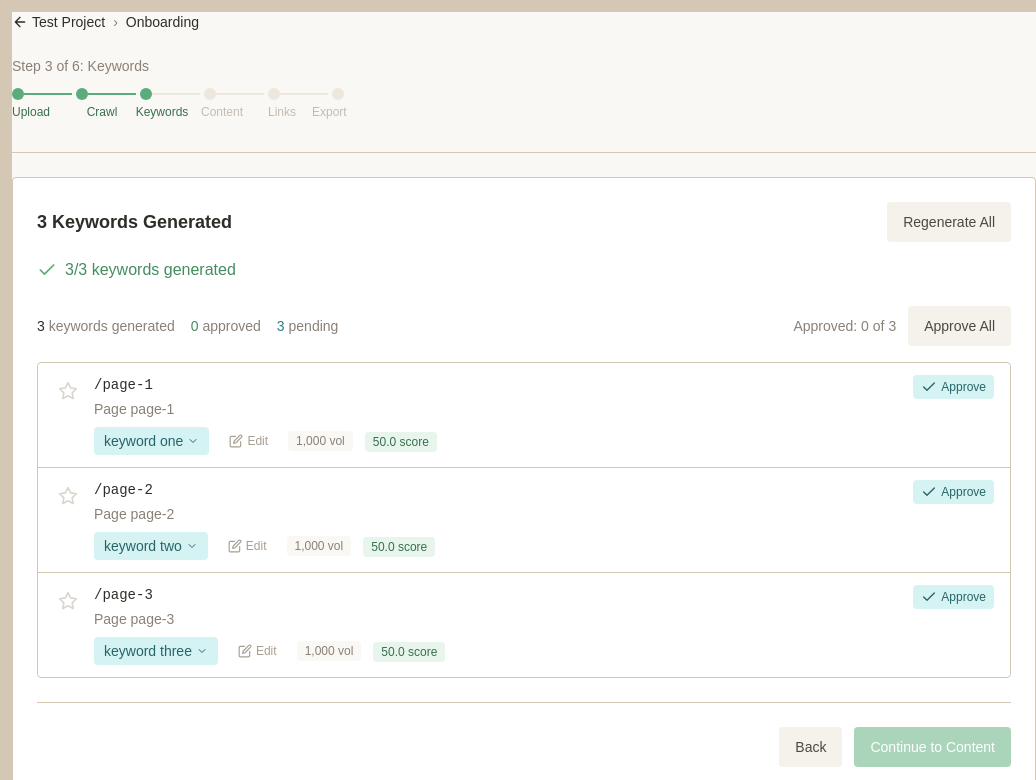
Keywords Page - Integration Tests › approve all flow › shows success toast after Approve All succeeds
Click the button "Approve All" at point(960, 326), box [908, 306, 1011, 346]
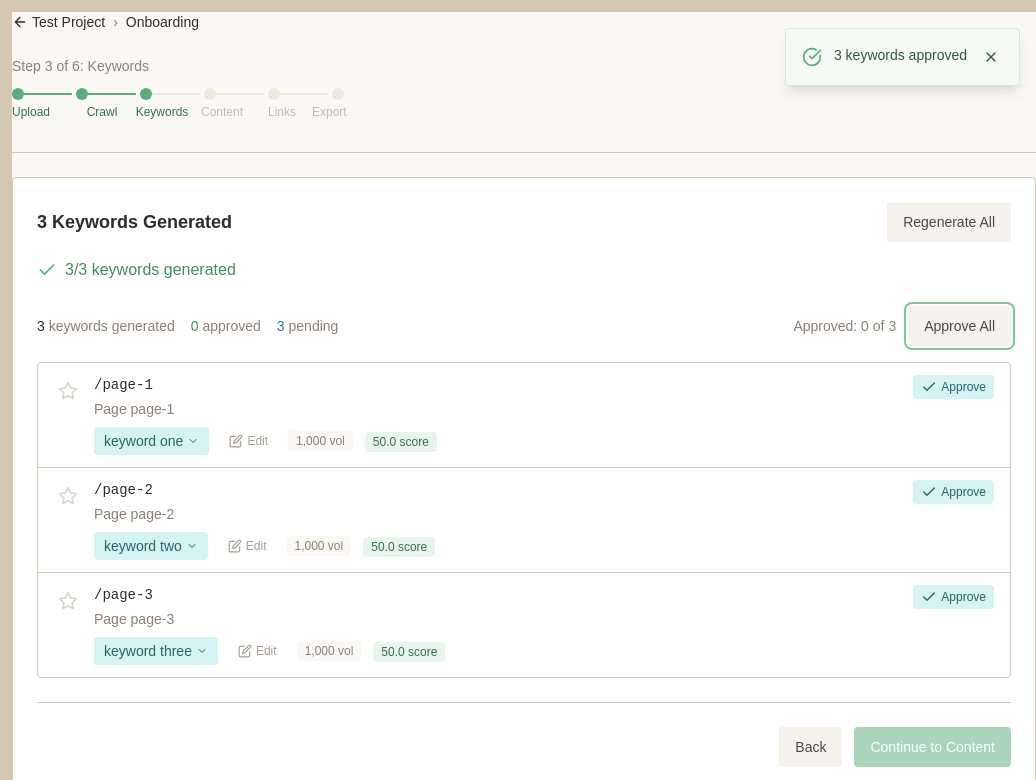
Now the text "3 keywords approved" is shown, box [834, 45, 967, 65]
